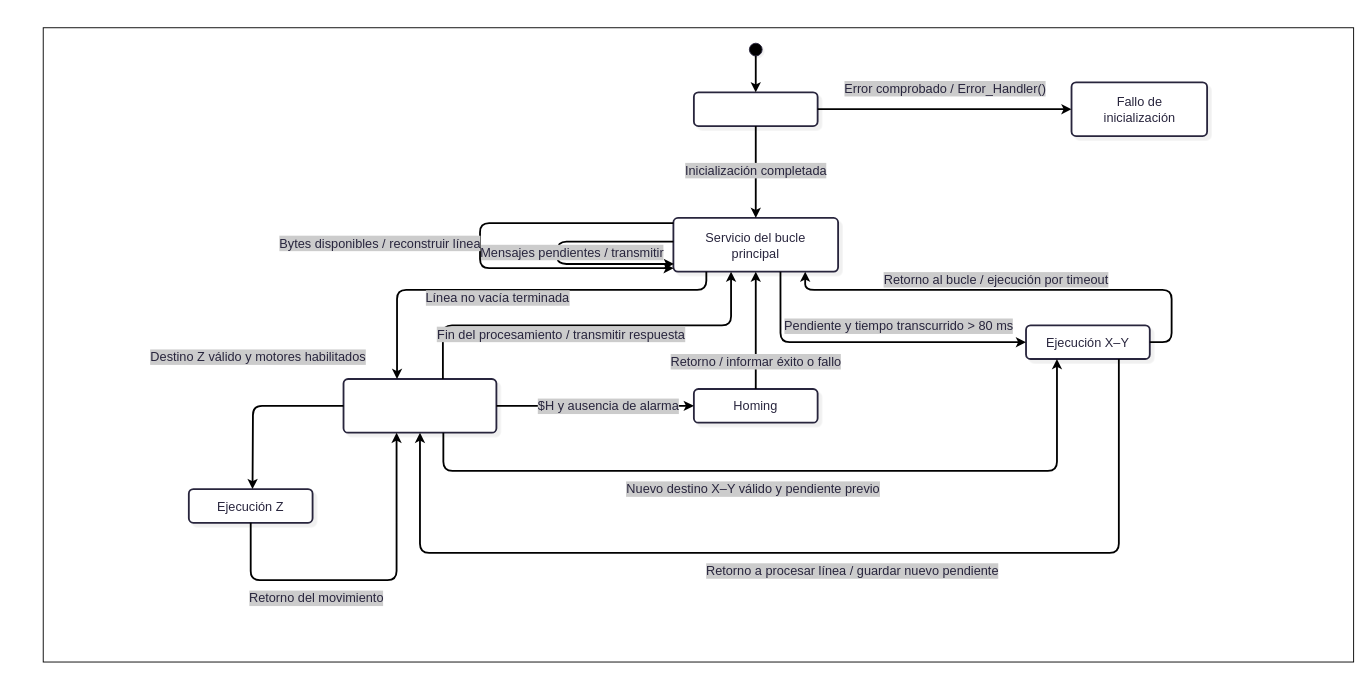
The diagram is 1370 pixels wide and 678 high, and some of its shapes have lost their labels. Here are the shapes that lost their labels. From the top down, the centre of each, then its label:
At (x=757, y=110): "Inicialización".
At (x=421, y=407): "Procesamiento de una línea".
